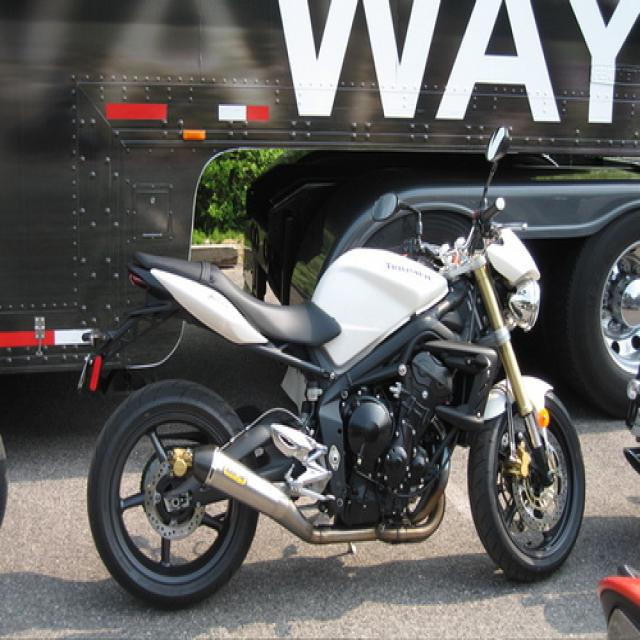motor: (82, 118, 584, 614)
